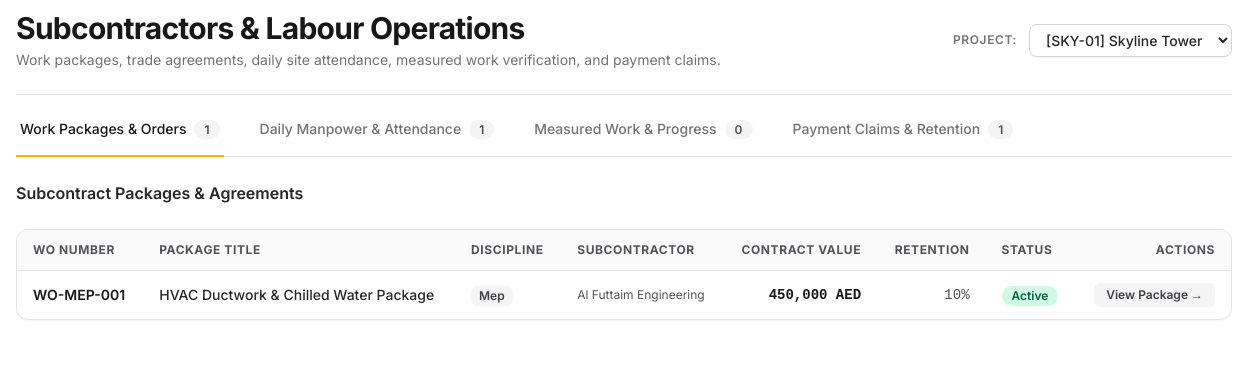
Test case: SubcontractorsPage › switches to Daily Manpower tab and shows attendance records
The width and height of the screenshot is (1249, 373).
Click the tab "Daily Manpower & Attendance1": (377, 138) x1=256 y1=119 x2=498 y2=157
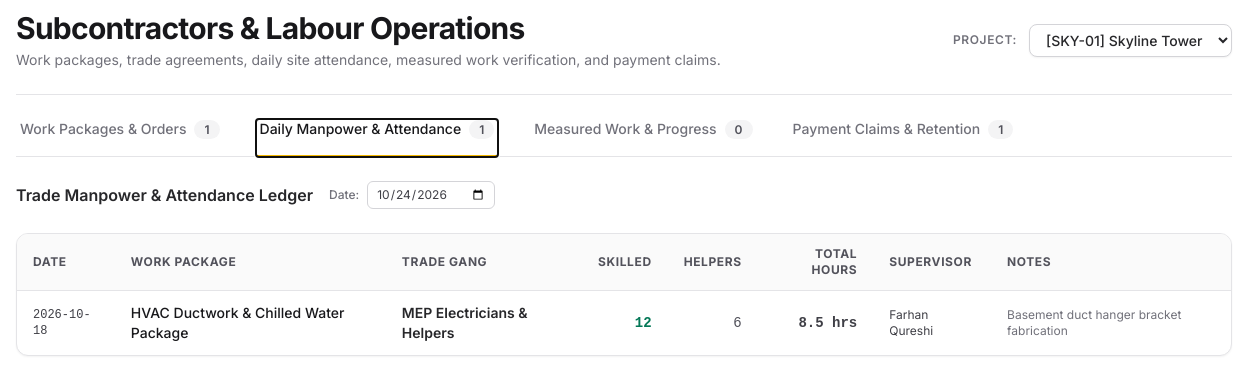
Now the text "MEP Electricians & Helpers" is shown, box x1=386 y1=290 x2=582 y2=355
Now the text "12" is shown, box x1=582 y1=290 x2=668 y2=355
Now the text "6" is shown, box x1=668 y1=290 x2=758 y2=355
